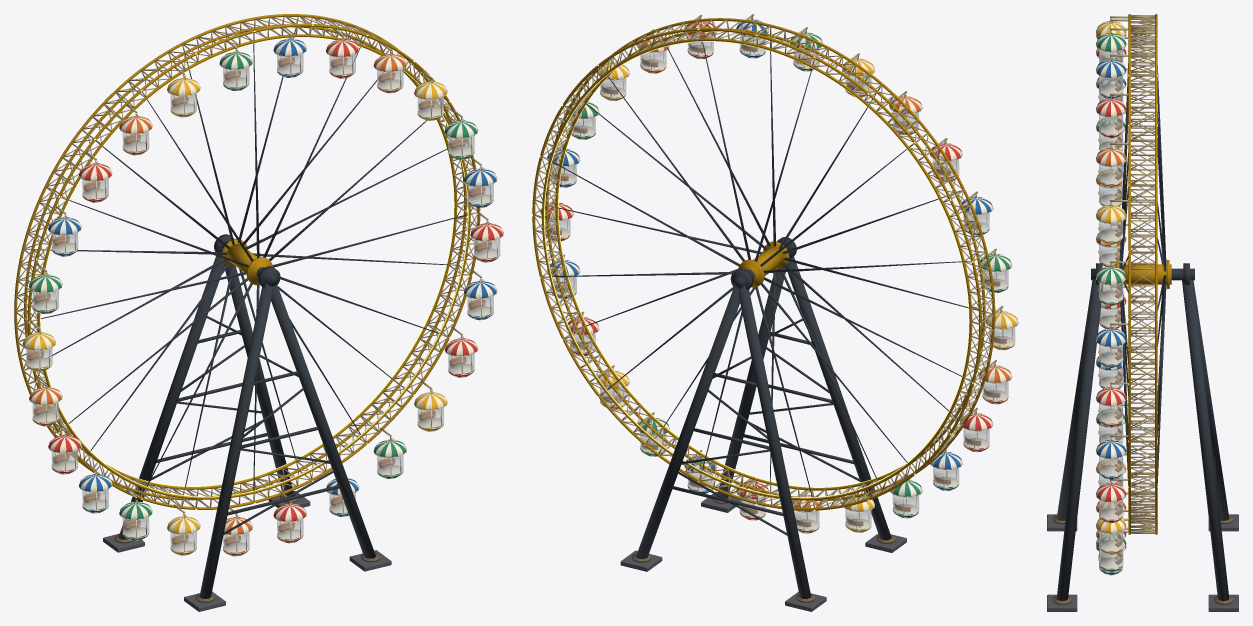
Rendered from wheel.glb.
The picture shows the model from 3 angles, left to right: view 1: azimuth 30°, elevation 25°; view 2: azimuth 150°, elevation 25°; view 3: azimuth 270°, elevation 25°; orthographic projection.
Parts seen in each view (by area): view 1: Four continuous steel chords, A-frame columns, 24 tapered steel spokes, Triangulated rim web, Lateral rim ties, A-frame braces, Continuous inner rim lights / front, Rim pins to cabin pivots, Continuous inner rim lights / rear; view 2: Four continuous steel chords, A-frame columns, 24 tapered steel spokes, Triangulated rim web, Lateral rim ties, A-frame braces, Continuous inner rim lights / rear, Continuous inner rim lights / front; view 3: A-frame columns, Lateral rim ties, Triangulated rim web, 24 tapered steel spokes, Four continuous steel chords, Rotating hub drum, Rim pins to cabin pivots, Cabin 02 / Bell canopy with 16 painted gores.001, Cabin 06 / Bell canopy with 16 painted gores, Cabin 01 / Bell canopy with 16 painted gores.001, Cabin 02 / Bell canopy with 16 painted gores, Cabin 03 / Bell canopy with 16 painted gores (+27 smaller).
Part boxes in pixels (x1,y1,x2,y2): Four continuous steel chords: (14, 14, 480, 509); A-frame columns: (118, 256, 375, 598); 24 tapered steel spokes: (34, 28, 467, 490); Triangulated rim web: (16, 15, 477, 507); Lateral rim ties: (15, 15, 477, 507); A-frame braces: (150, 316, 340, 534); Continuous inner rim lights / front: (40, 37, 468, 497); Rim pins to cabin pivots: (30, 27, 488, 514); Continuous inner rim lights / rear: (40, 27, 454, 486); Four continuous steel chords: (532, 18, 995, 510); A-frame columns: (636, 256, 891, 598); 24 tapered steel spokes: (552, 37, 982, 497); Triangulated rim web: (534, 19, 993, 508); Lateral rim ties: (534, 19, 993, 508); A-frame braces: (671, 319, 860, 535); Continuous inner rim lights / rear: (544, 41, 969, 498); Continuous inner rim lights / front: (558, 31, 964, 487); A-frame columns: (1056, 279, 1229, 600); Lateral rim ties: (1131, 15, 1154, 533); Triangulated rim web: (1131, 15, 1154, 533); 24 tapered steel spokes: (1119, 63, 1166, 485); Four continuous steel chords: (1128, 14, 1157, 534); Rotating hub drum: (1114, 264, 1171, 284); Rim pins to cabin pivots: (1110, 16, 1128, 532); Cabin 02 / Bell canopy with 16 painted gores.001: (1096, 440, 1126, 458); Cabin 06 / Bell canopy with 16 painted gores: (1096, 98, 1126, 116); Cabin 01 / Bell canopy with 16 painted gores.001: (1096, 483, 1126, 501); Cabin 02 / Bell canopy with 16 painted gores: (1096, 328, 1126, 346); Cabin 03 / Bell canopy with 16 painted gores: (1096, 266, 1126, 284).
Bounding box in the file's own units: 47.31 × 50 × 16.5.
